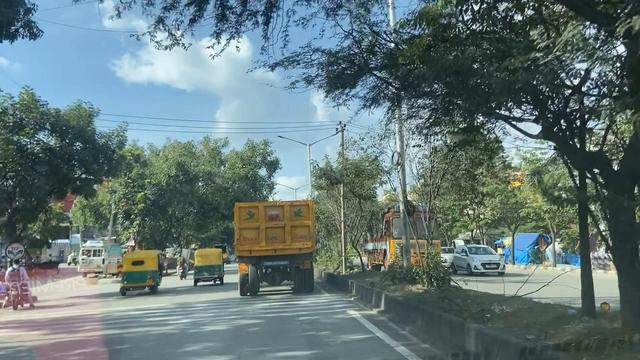HMV: (236, 200, 315, 290)
LMV: (120, 249, 164, 292), (6, 256, 37, 312), (192, 239, 225, 282)
